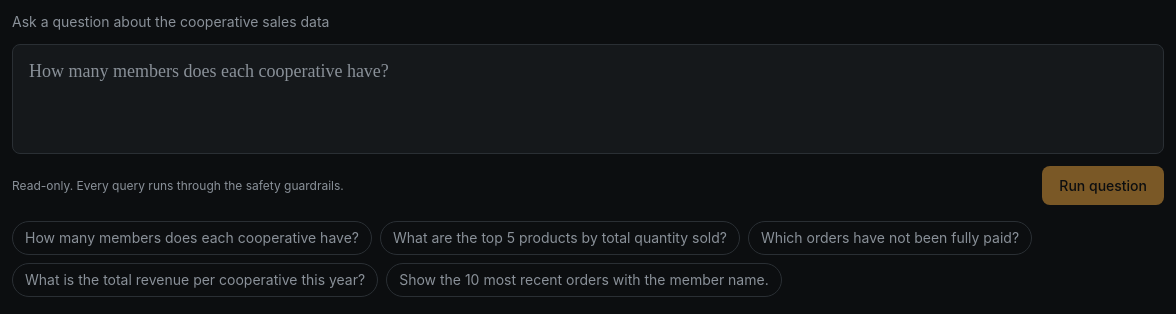
Test: QueryConsole › fills the textarea when a starter chip is clicked
Step 1. Click the button "What are the top 5 products by total quantity sold?" → (560, 238), box [380, 221, 740, 255]
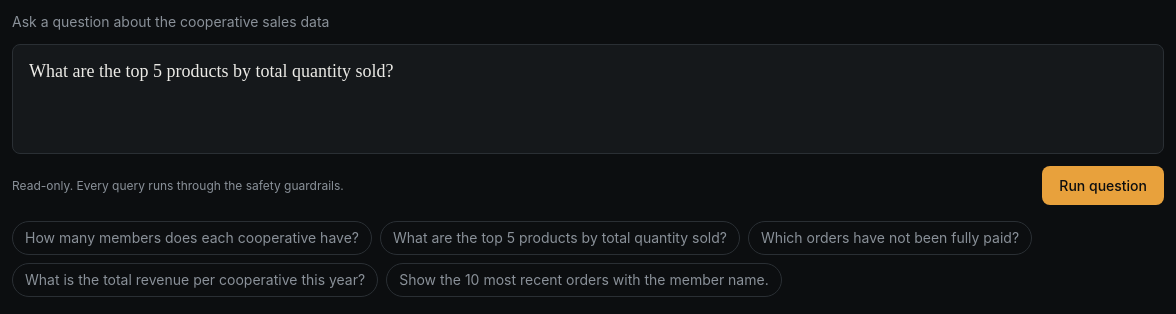
Expected: the text box labelled "Ask a question about the cooperative sales data" holds "What are the top 5 products by total quantity sold?", [12, 44, 1164, 154]
